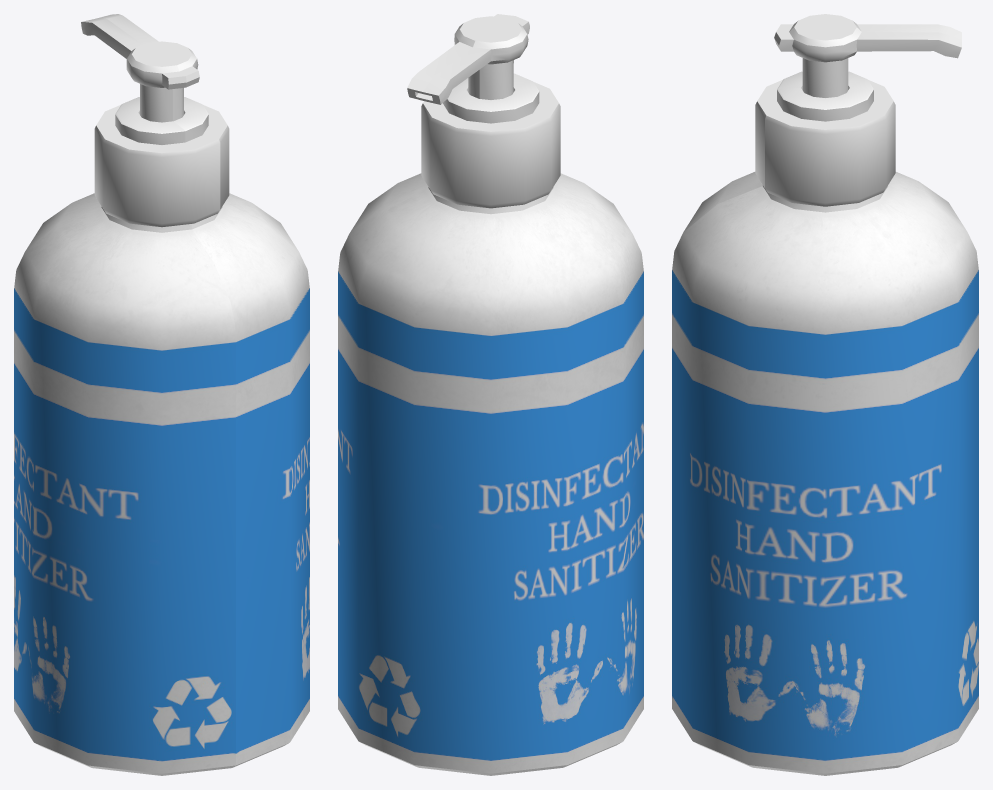
The model's file is HandSanitizer.fbx.
3 renders of one model, left to right at view 1: azimuth 30°, elevation 25°; view 2: azimuth 150°, elevation 25°; view 3: azimuth 270°, elevation 25°, orthographic. The views are drawn at different scales.
Parts seen in each view (by area): view 1: HandSanitizer; view 2: HandSanitizer; view 3: HandSanitizer.
Boxes of the visible parts, x1=… form: HandSanitizer: x1=14, y1=14, x2=309, y2=775; HandSanitizer: x1=338, y1=14, x2=643, y2=775; HandSanitizer: x1=672, y1=14, x2=978, y2=775.
Bounding box in the file's own units: 8.09 × 20 × 8.09.
1 material, 1 textured.
